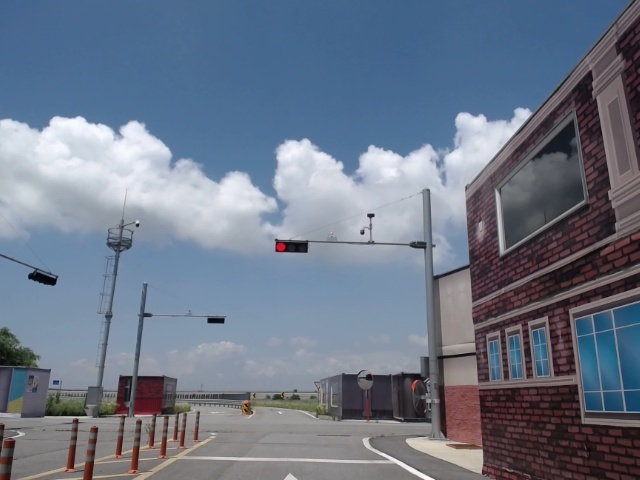red_3: (275, 239, 309, 253)
